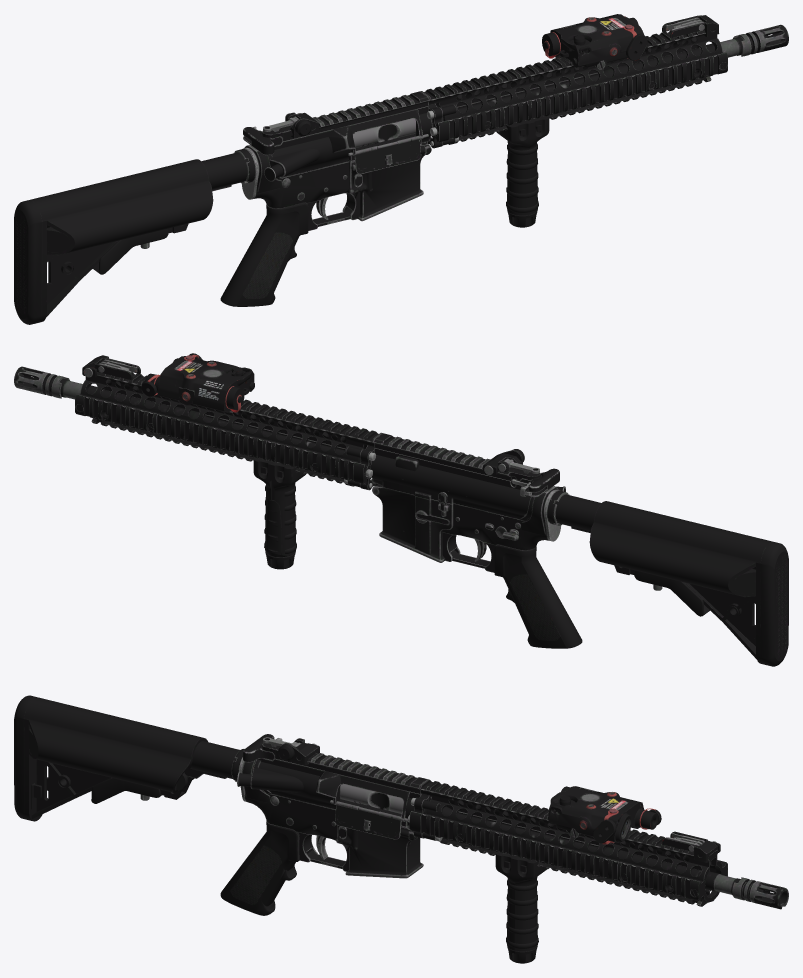
Rendered from Carbinerifle_colt.glb.
3 renders of one model, top to bottom at view 1: azimuth 30°, elevation 25°; view 2: azimuth 150°, elevation 25°; view 3: azimuth 330°, elevation 25°, orthographic.
Visible parts, largest first — view 1: Gun_Root; view 2: Gun_Root; view 3: Gun_Root.
Boxes of the visible parts, x1=… form: Gun_Root: x1=14, y1=14, x2=788, y2=324; Gun_Root: x1=14, y1=353, x2=788, y2=666; Gun_Root: x1=14, y1=695, x2=788, y2=963.
Size of the model in its own units: 0.8294 by 0.2025 by 0.0704.
4 materials, 4 textured.
